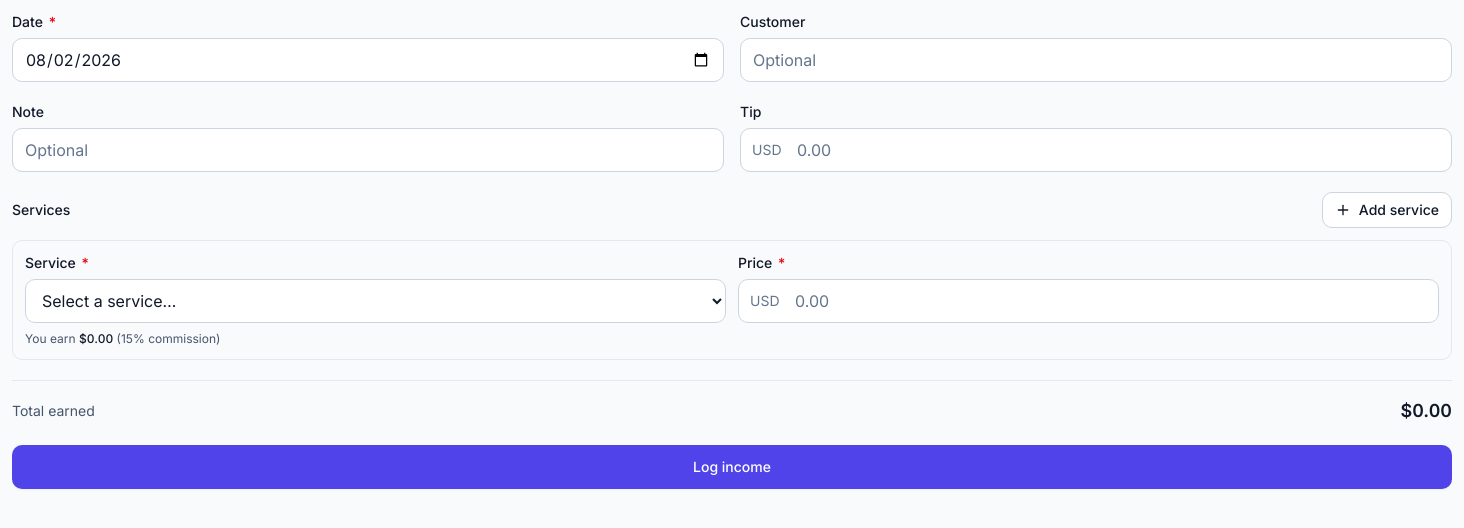
it: EntryForm › rejects a negative tip
This screenshot has width=1464, height=528.
Select "Haircut" in the dropdown labelled "Service *": (376, 301) [25, 279, 726, 323]
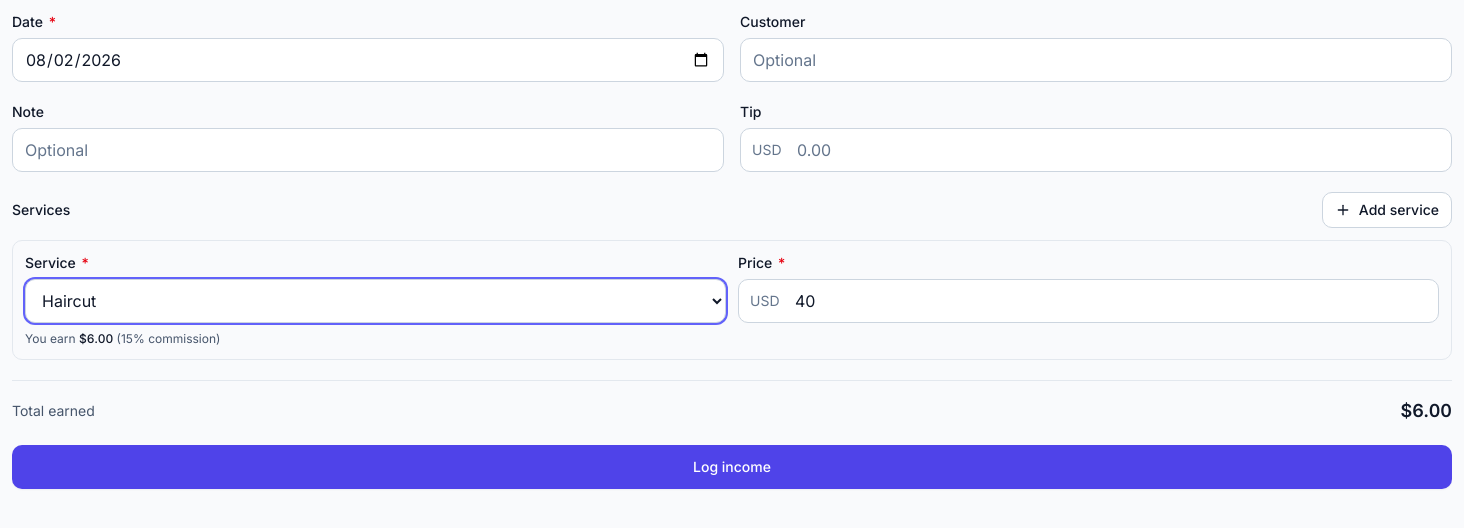
In the number field labelled "Tip": (1096, 150) [740, 128, 1452, 172], type "-5"
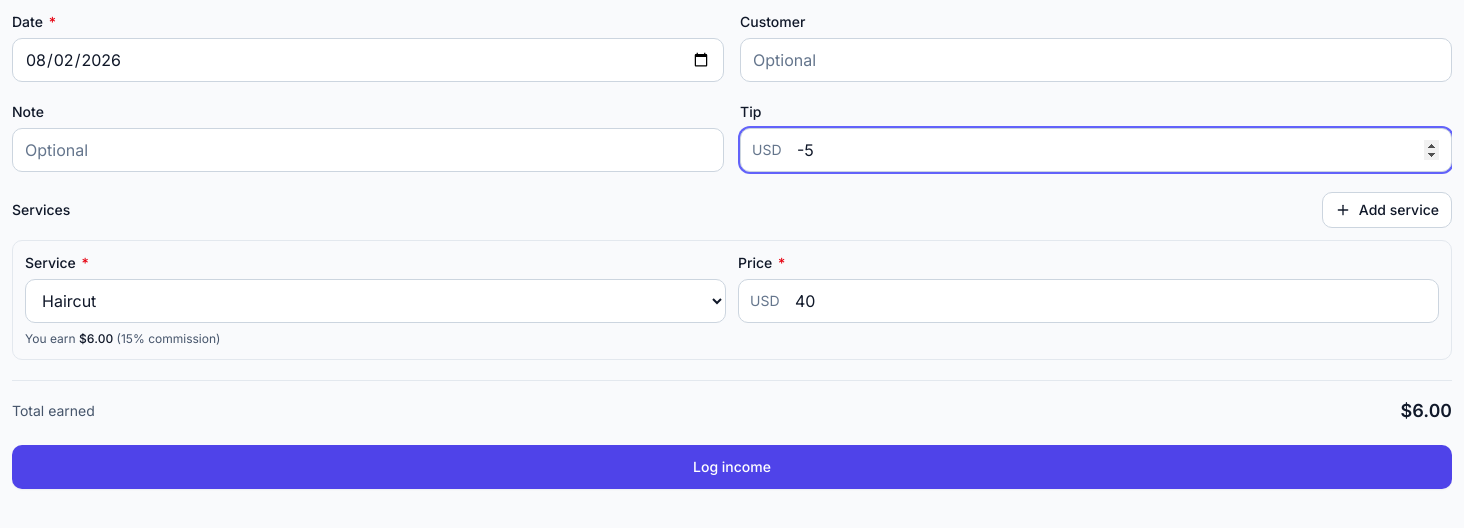
Click the button "Log income": (732, 467) [12, 445, 1452, 489]
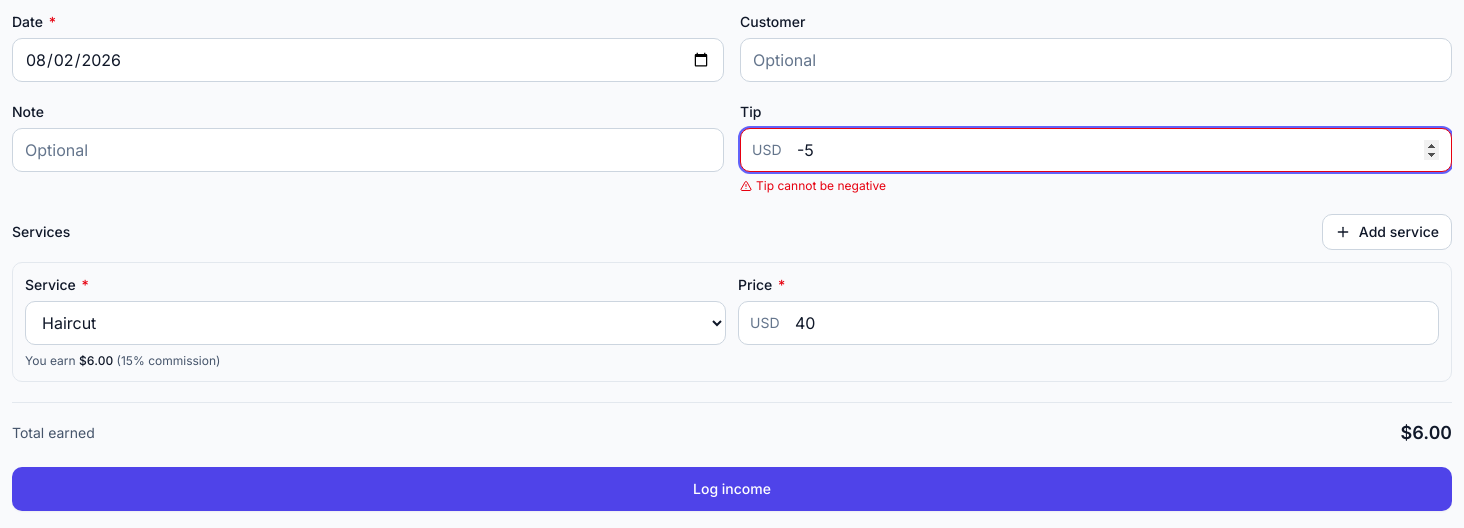
Check: the text "Tip cannot be negative" is shown, box [740, 178, 886, 193]
